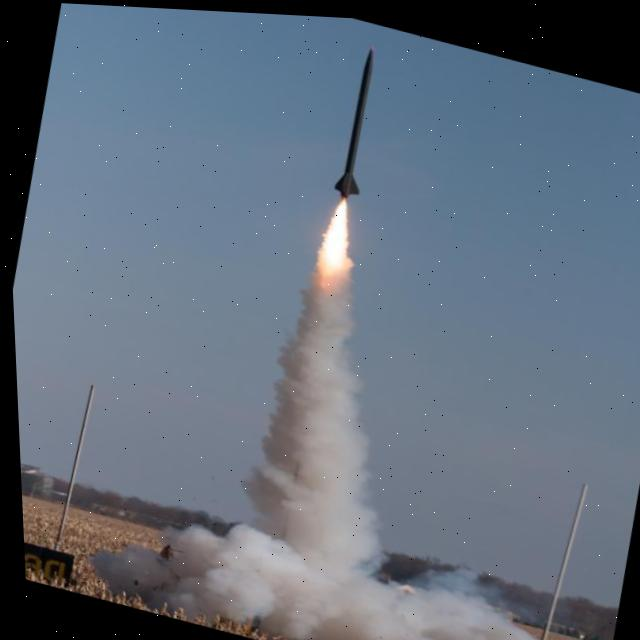missile: (315, 26, 407, 226)
